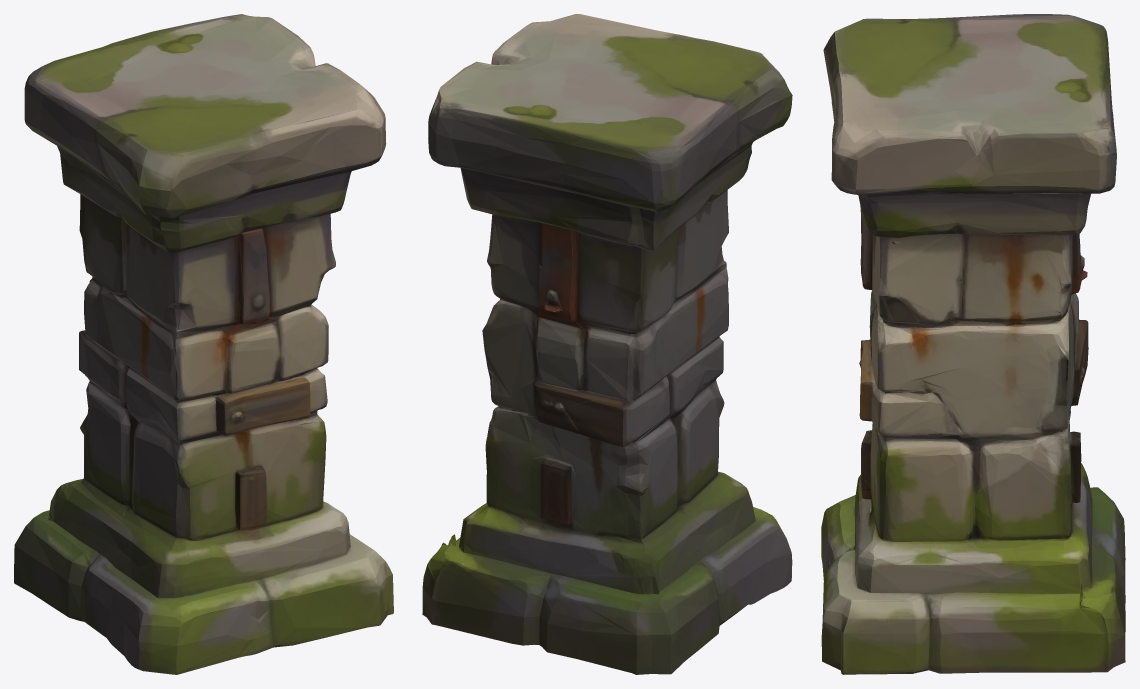
Rendered from pillar_stone.glb.
3 views of the same model, side by side, from view 1: azimuth 30°, elevation 25°; view 2: azimuth 150°, elevation 25°; view 3: azimuth 270°, elevation 25° (orthographic). The views are drawn at different scales.
Visible parts, largest first — view 1: world; view 2: world; view 3: world.
Part boxes in pixels (<box>): world: <box>14,14,393,674</box>; world: <box>422,14,792,674</box>; world: <box>821,14,1125,674</box>.
Bounding box in the file's own units: 0.51 × 0.9949 × 0.5083.
Materials: 1 (1 with a texture image).
